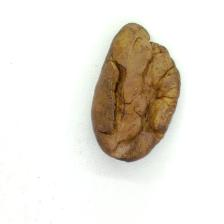NG: (109, 42, 165, 152)
